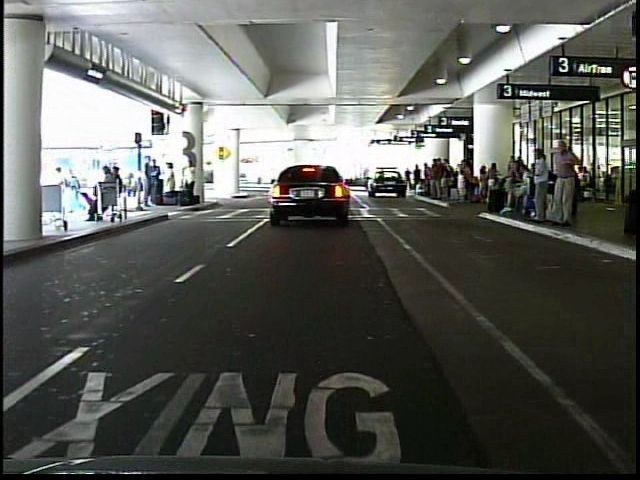person: (546, 135, 585, 233), (529, 146, 551, 225), (57, 162, 82, 219), (165, 160, 180, 204), (149, 157, 163, 204), (183, 158, 197, 203), (415, 160, 427, 197), (405, 166, 414, 193)
